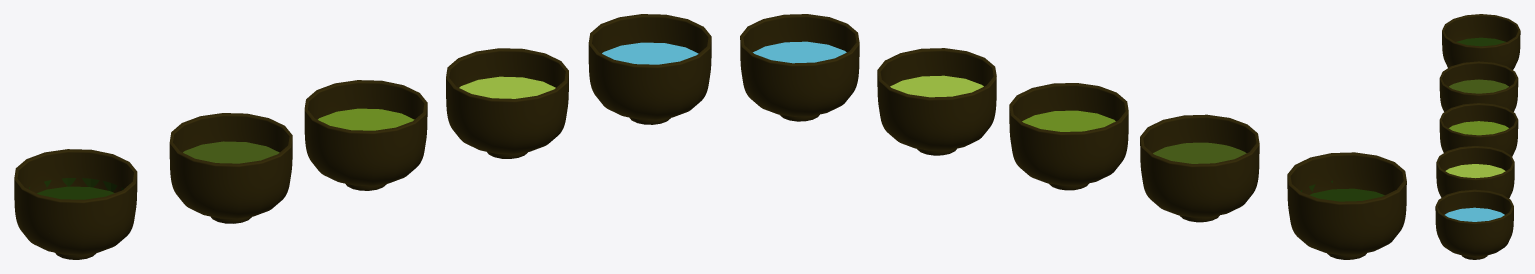
The model's file is mattya.fbx.
The picture shows the model from 3 angles, left to right: view 1: azimuth 30°, elevation 25°; view 2: azimuth 150°, elevation 25°; view 3: azimuth 270°, elevation 25°; orthographic projection. The views are drawn at different scales.
Parts seen in each view (by area): view 1: mattya0, mattya3, mattya1, mattya2, mattya4; view 2: mattya3, mattya0, mattya4, mattya1, mattya2; view 3: mattya0, mattya1, mattya4, mattya3, mattya2.
Part boxes in pixels (bbox=[...]): mattya0: bbox=[588, 14, 711, 124]; mattya3: bbox=[304, 80, 427, 190]; mattya1: bbox=[14, 149, 137, 259]; mattya2: bbox=[169, 113, 292, 223]; mattya4: bbox=[446, 48, 568, 158]; mattya3: bbox=[1009, 83, 1128, 190]; mattya0: bbox=[740, 14, 859, 121]; mattya4: bbox=[877, 48, 996, 155]; mattya1: bbox=[1287, 152, 1406, 259]; mattya2: bbox=[1140, 114, 1259, 222]; mattya0: bbox=[1435, 189, 1513, 259]; mattya1: bbox=[1442, 14, 1520, 69]; mattya4: bbox=[1436, 146, 1514, 198]; mattya3: bbox=[1439, 103, 1518, 156]; mattya2: bbox=[1439, 61, 1518, 111].
Size of the model in its own units: 5053 by 541 by 870.
